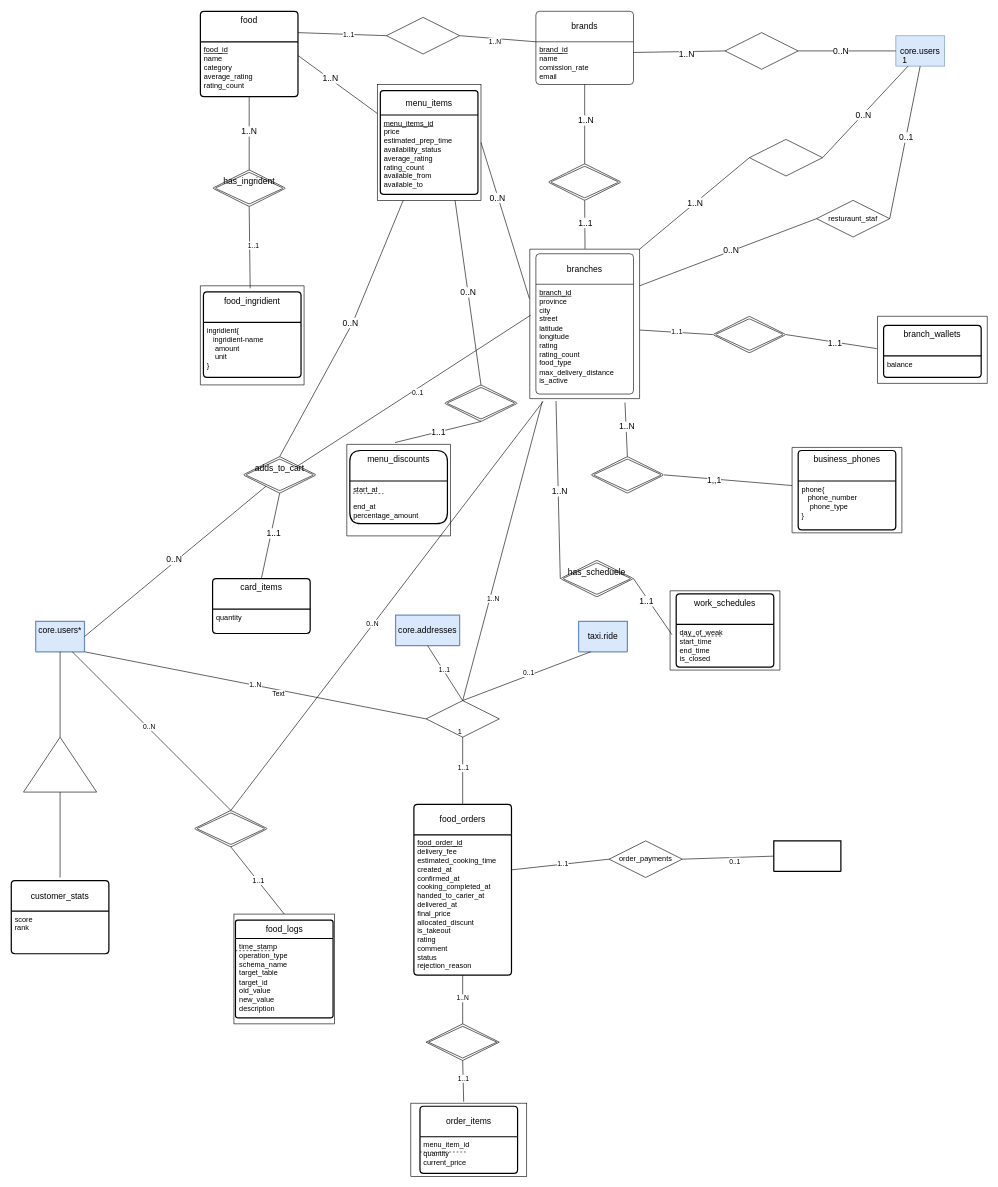
Image size: 998x1187. Some labels were removed from this diagram. Each missing label, with the centre of its shape:
"branch_owners" goes at (x=786, y=157).
"brand_owners" goes at (x=761, y=50).
"contains" goes at (x=462, y=1041).
"core.transactions" goes at (x=807, y=856).
"discount_of" goes at (x=481, y=403).
"genrates" goes at (x=462, y=718).
"has_branch" goes at (x=584, y=181).
"has_phone" goes at (x=627, y=474).
"has_wallet" goes at (x=749, y=334).
"offers" goes at (x=423, y=35).
"performs_action" goes at (x=230, y=828).
"ّISA" goes at (x=60, y=764).
